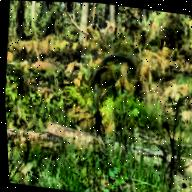boar: (82, 35, 184, 113)
